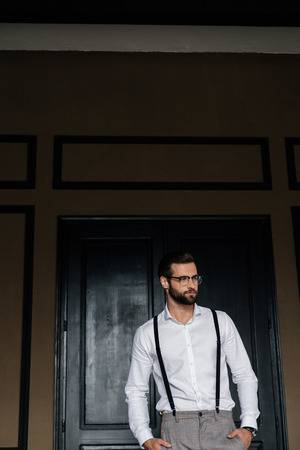F_shirt: (122, 305, 261, 439)
